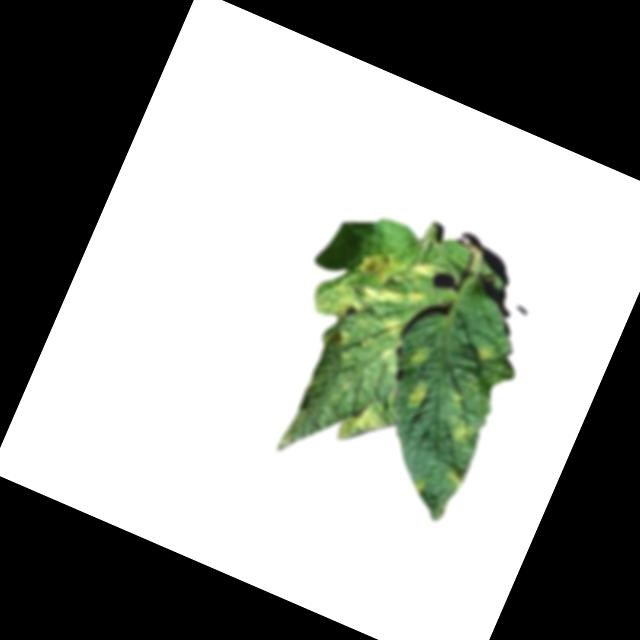Leaf_Mold: (314, 269, 382, 342), (332, 399, 390, 453), (355, 242, 405, 291), (402, 376, 436, 415), (407, 338, 437, 371), (448, 415, 476, 445), (411, 256, 441, 283), (470, 342, 497, 370), (382, 314, 407, 339)
